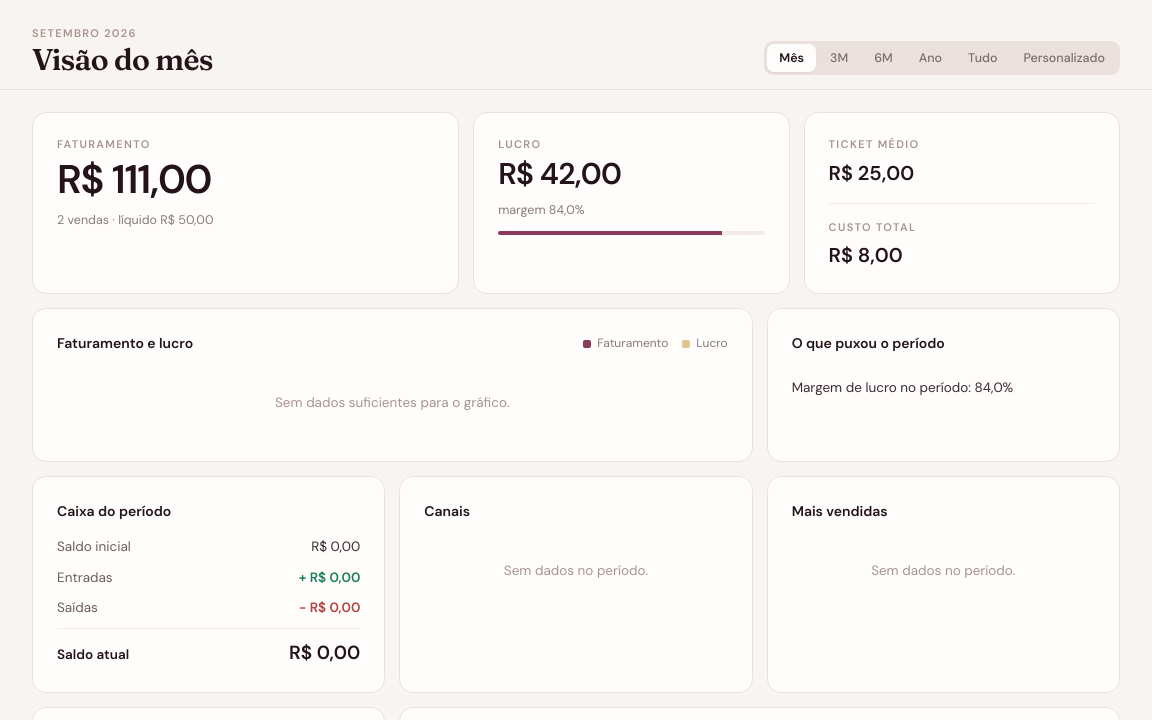
Painel: período personalizado › should_not_show_another_period_while_the_custom_dates_are_incomplete
Expected: the text "R$ 111,00" is shown, [57,153,211,205]
Click the button "Personalizado" at (1064, 58), box [1011,44,1117,72]
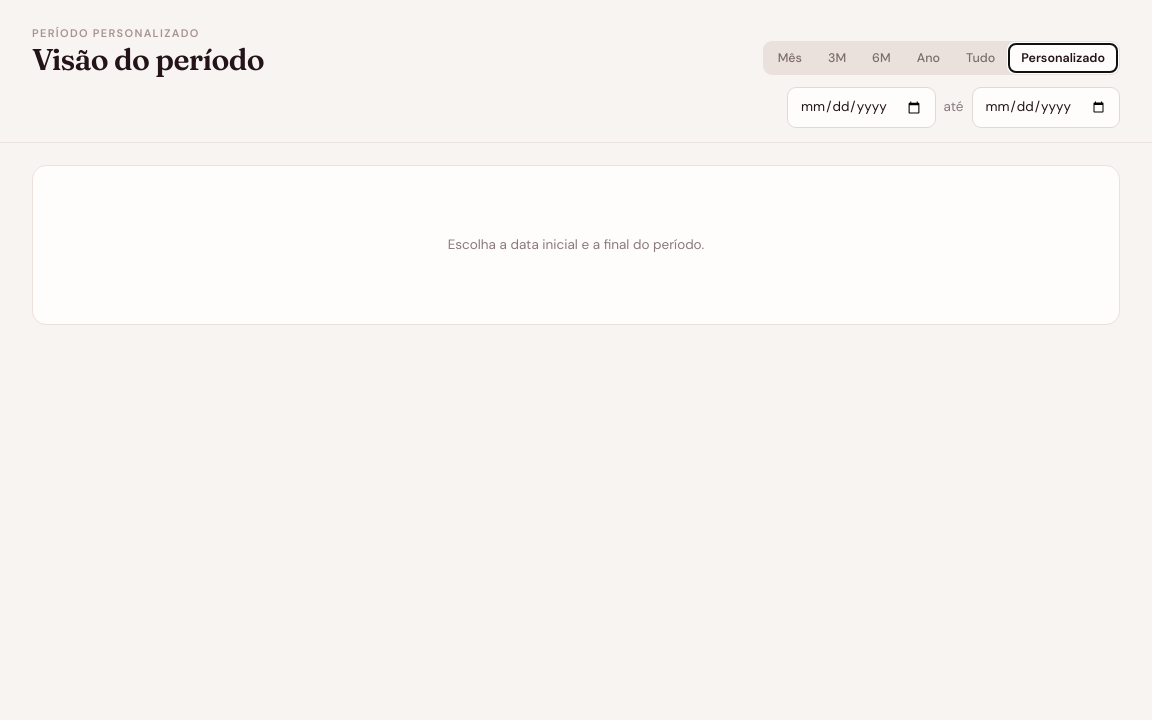
Expected: the text "Escolha a data inicial e a final do período." is shown, [448,234,704,255]
Expected: the text "R$ 111,00" is gone
